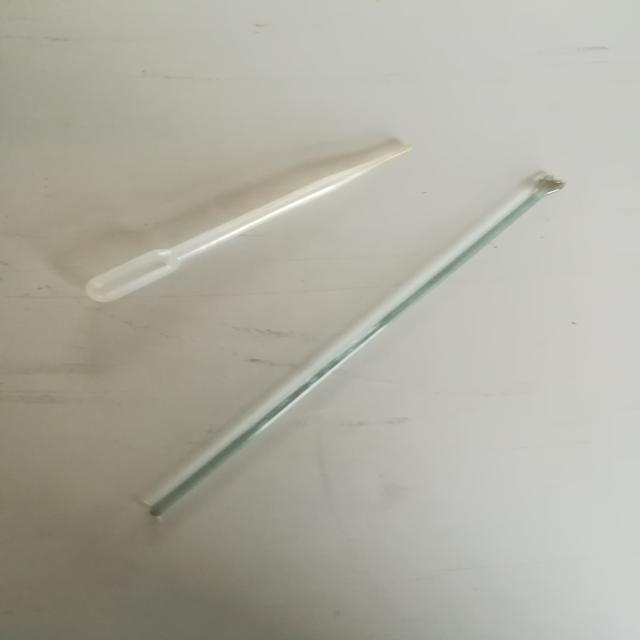Glass_Rod: (127, 158, 594, 546)
Pipette: (65, 97, 440, 322)
